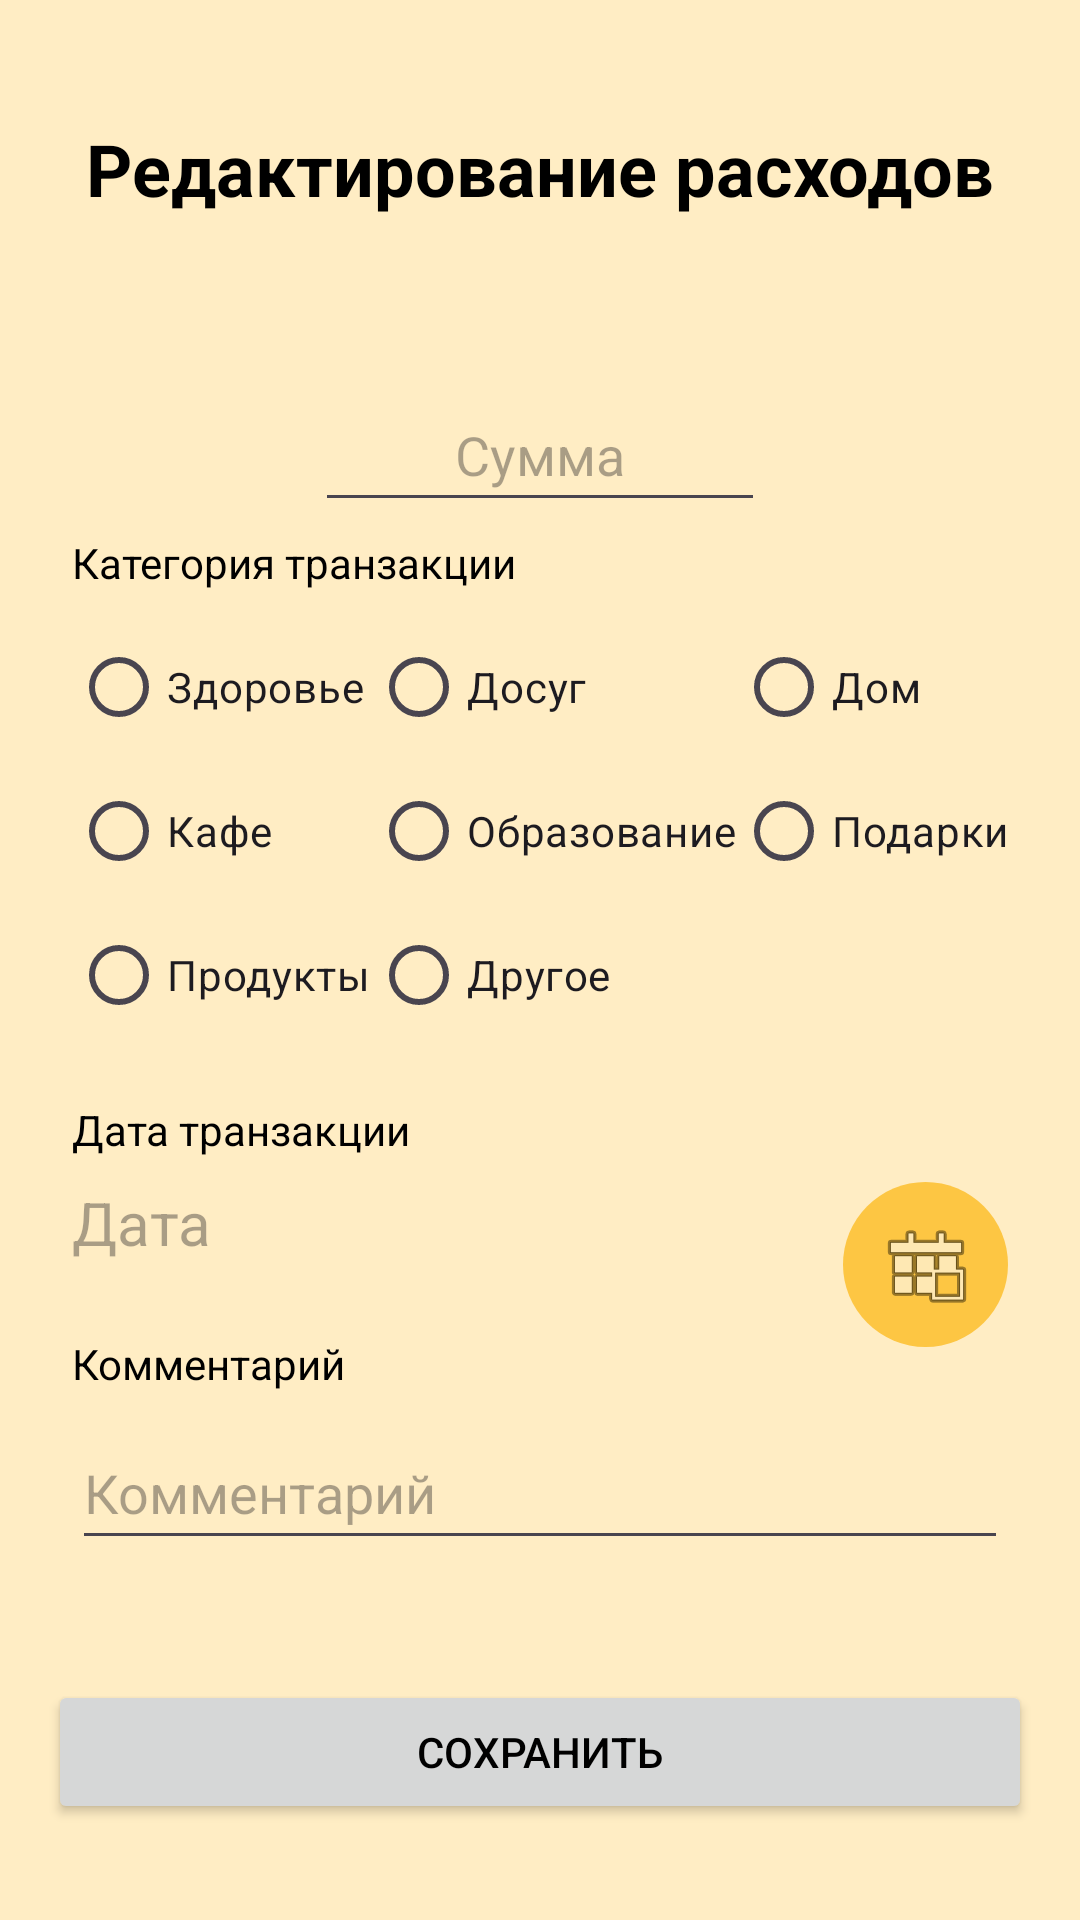

Icons on this 1080 × 1920 Android screen, each with its box as {"left": x1, "top": y1, "right": x2, "bottom": y2}:
today: {"left": 843, "top": 1182, "right": 1008, "bottom": 1347}
